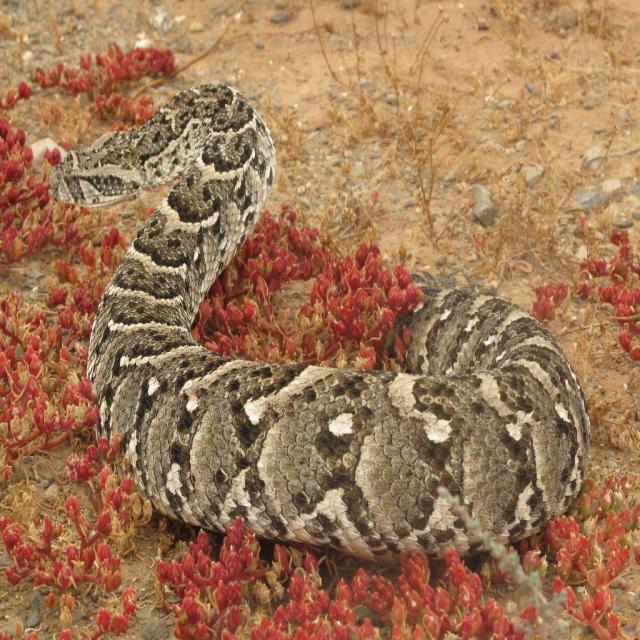Snake: (46, 75, 604, 576)
